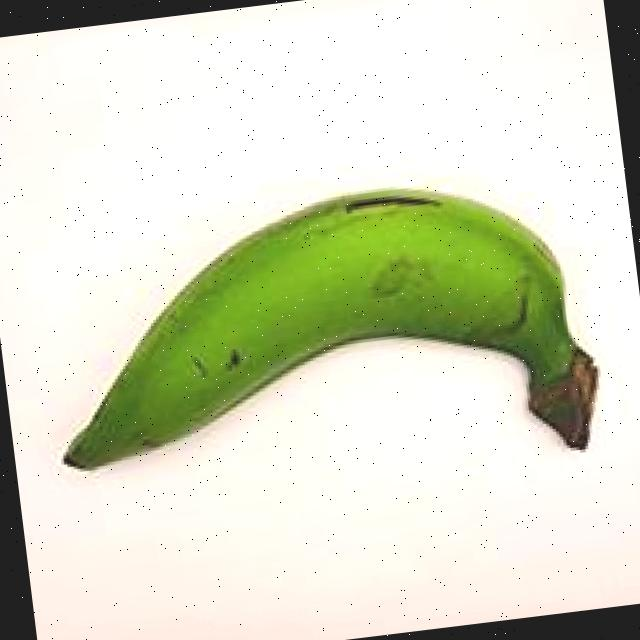Raw: (9, 144, 636, 566)
